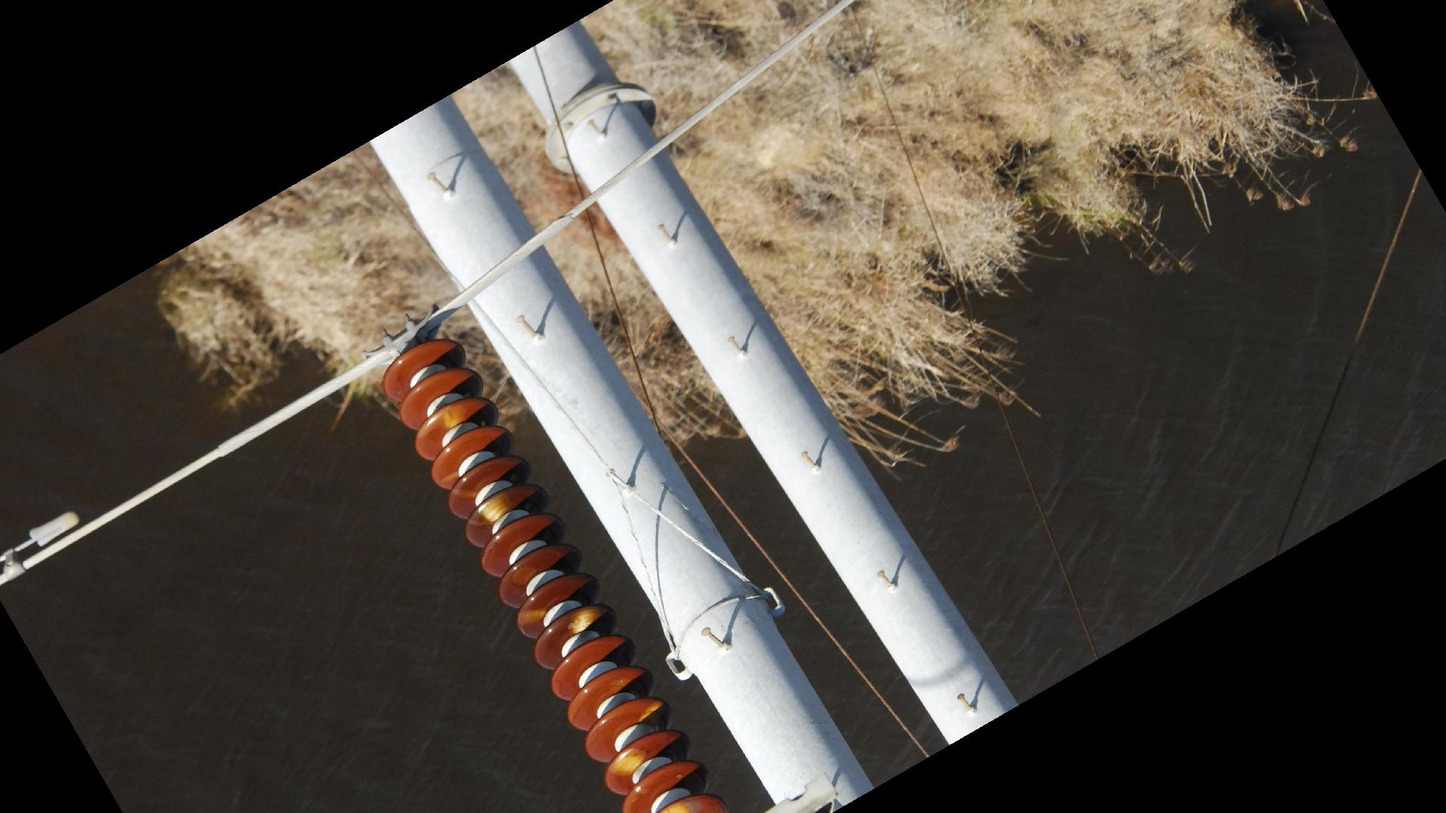insulator: (379, 334, 729, 813)
insulator_flashover: (606, 744, 648, 778), (477, 490, 515, 524), (569, 604, 599, 635), (636, 699, 668, 726), (654, 796, 702, 813), (441, 400, 468, 430), (516, 606, 548, 627)
